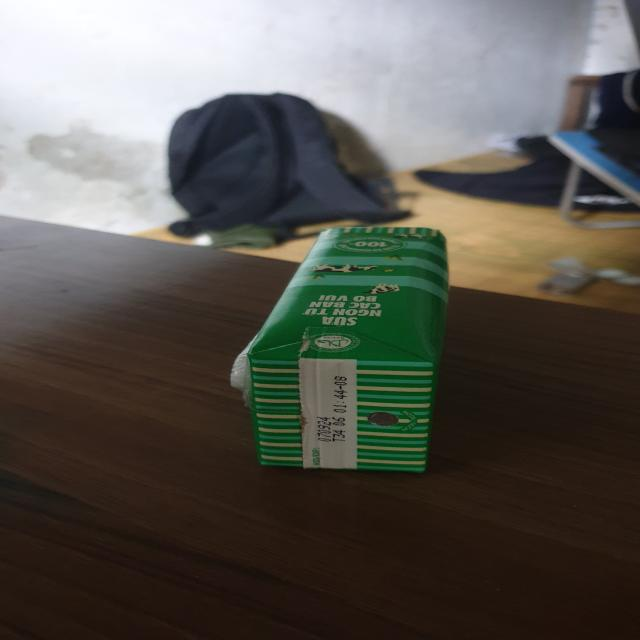Vina: (229, 226, 454, 479)
